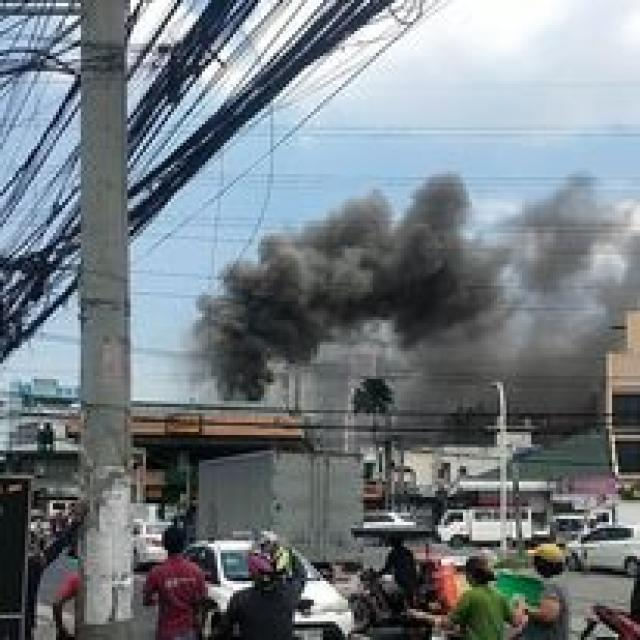Smoke: (208, 230, 640, 390)
